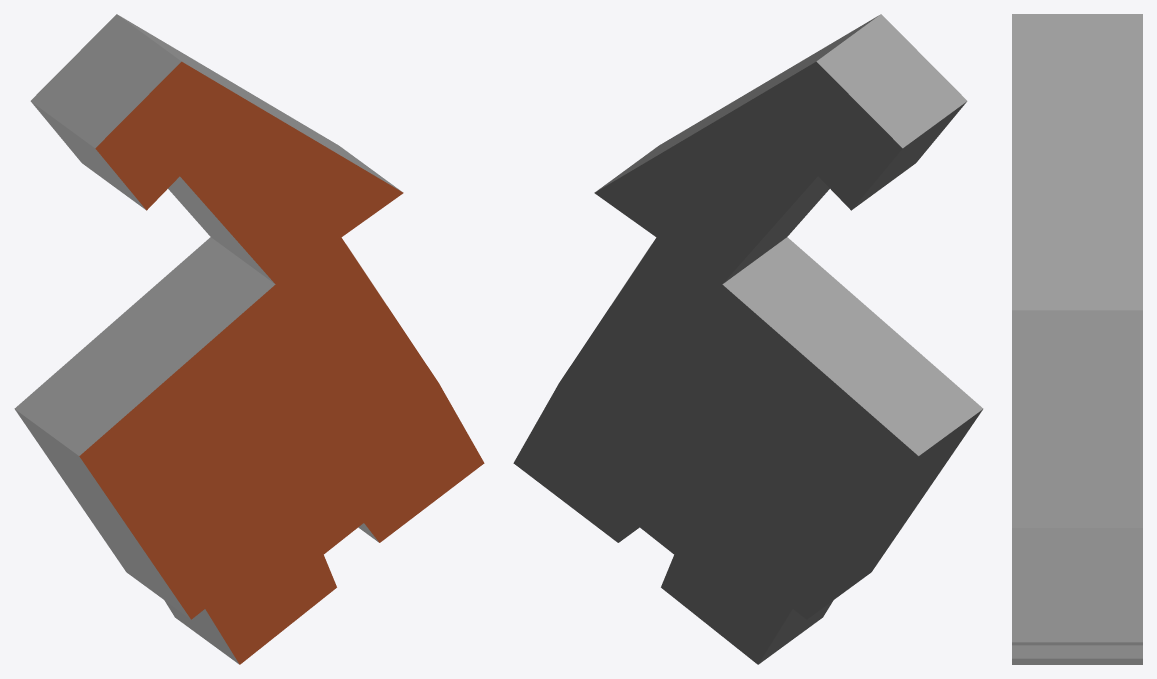
The model's file is construction_4582_assumed_A_Casa_h6m.obj.
3 views of the same model, side by side, from view 1: azimuth 30°, elevation 25°; view 2: azimuth 150°, elevation 25°; view 3: azimuth 270°, elevation 25° (orthographic).
Visible parts, largest first — view 1: construction_4582_assumed_A_Casa; view 2: construction_4582_assumed_A_Casa; view 3: construction_4582_assumed_A_Casa.
Part boxes in pixels (x1,y1,x2,y2): construction_4582_assumed_A_Casa: (14, 14, 484, 664); construction_4582_assumed_A_Casa: (513, 14, 983, 664); construction_4582_assumed_A_Casa: (1012, 14, 1142, 664).
Bounding box in the file's own units: 21.64 × 31.52 × 6.
